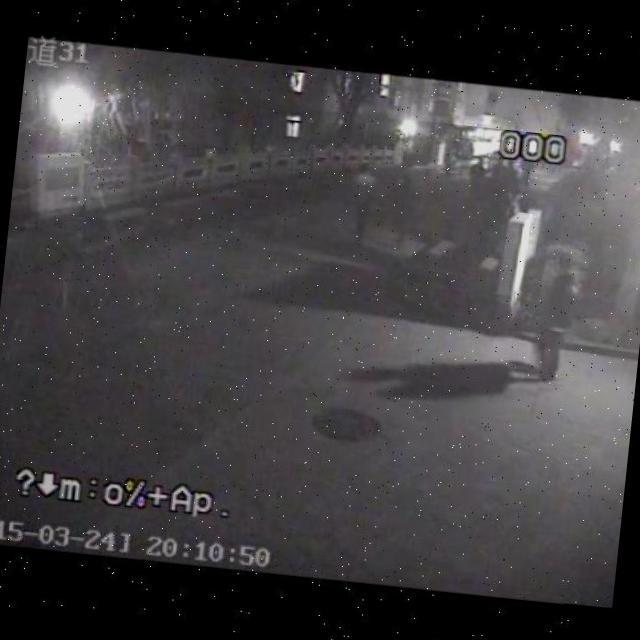person: (526, 266, 584, 389), (342, 162, 388, 248), (482, 162, 524, 226), (382, 170, 416, 243), (460, 152, 491, 217)
